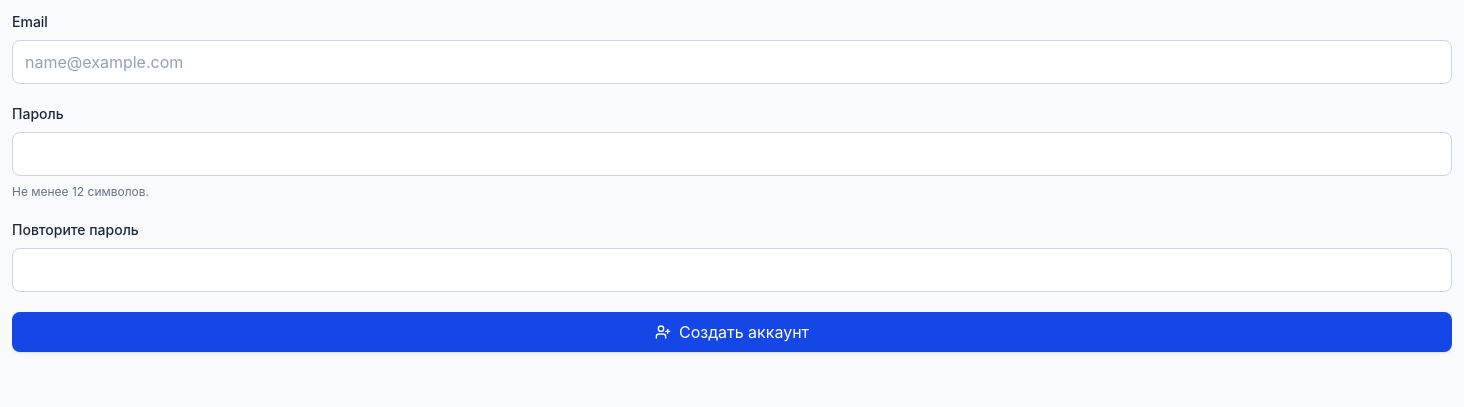
Test: RegisterForm › показывает безопасную причину, если письмо не было отправлено
Type "engineer@example.com" into the field labelled "Email". click: (732, 62)
box: [12,40,1452,84]
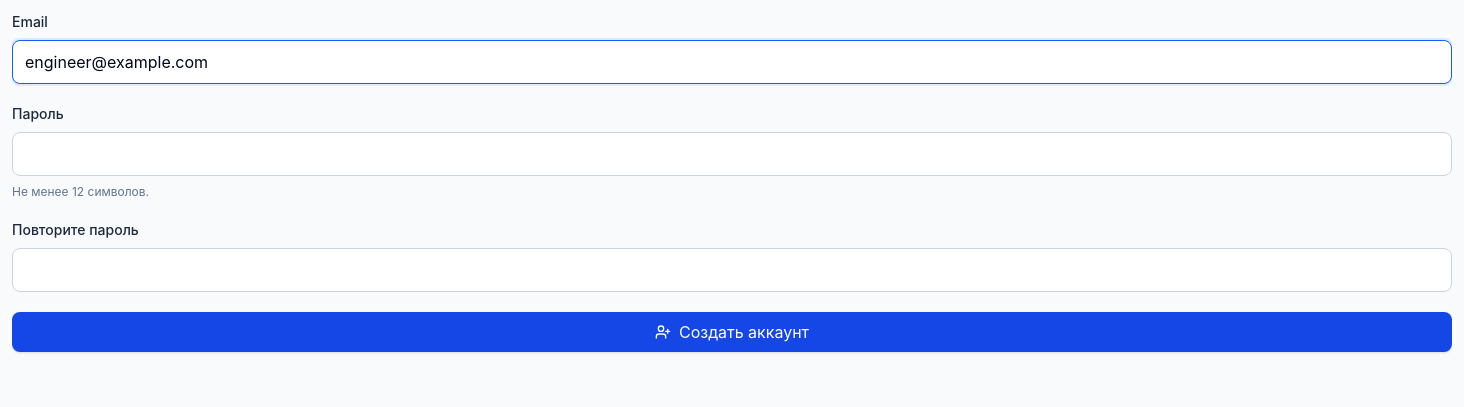
Type "Strong-password-2026" into the password field labelled "Пароль". click: (732, 154)
box: [12,132,1452,176]
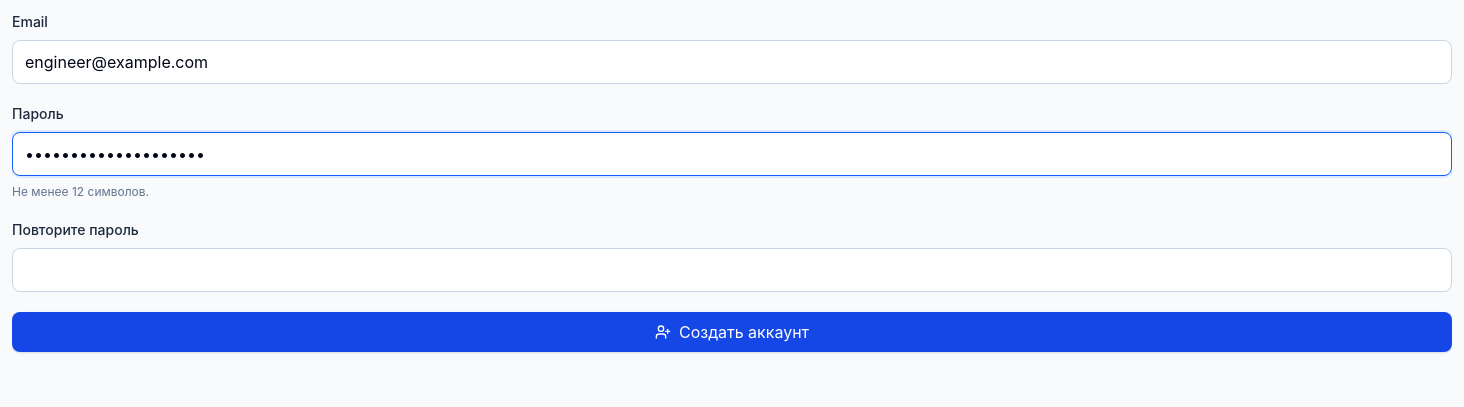
Type "Strong-password-2026" into the password field labelled "Повторите пароль". click: (732, 270)
box: [12,248,1452,292]
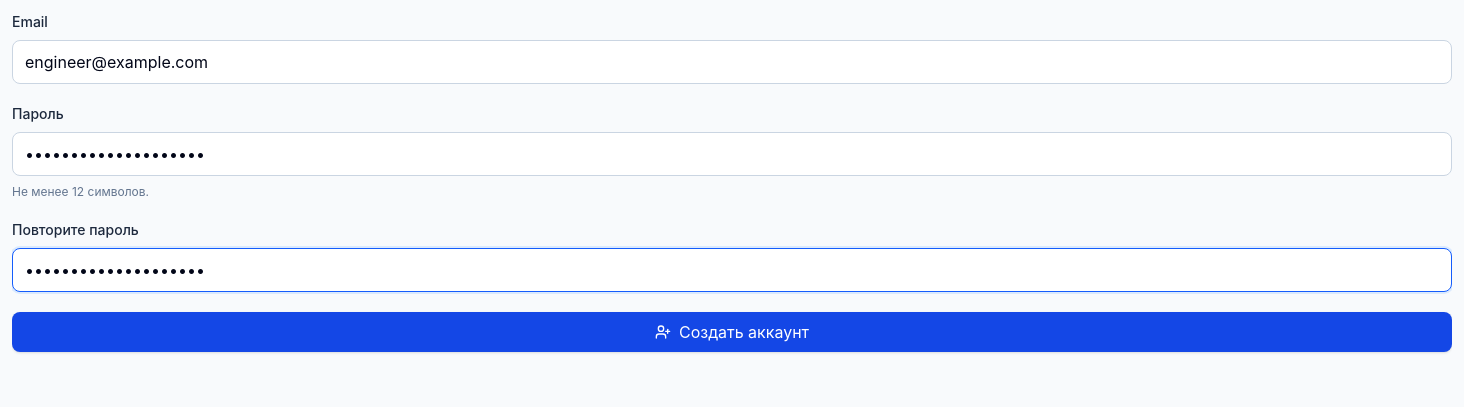
Click the button "Создать аккаунт". click: (732, 332)
box: [12,312,1452,352]
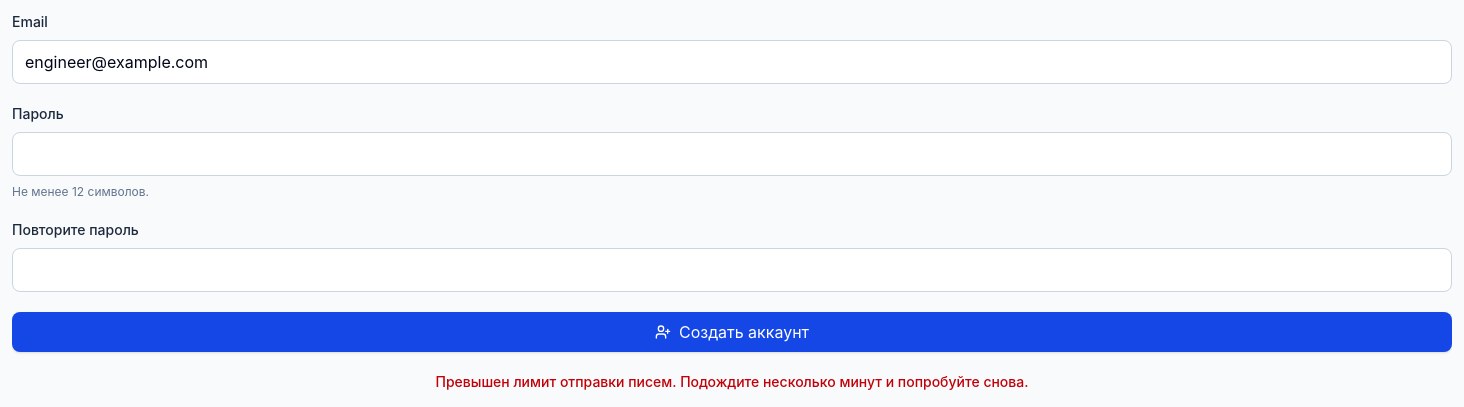
Check: the message shows "Превышен лимит отправки писем", box [436,373,1028,390]
Check: the password field labelled "Пароль" is empty, box [12,132,1452,176]
